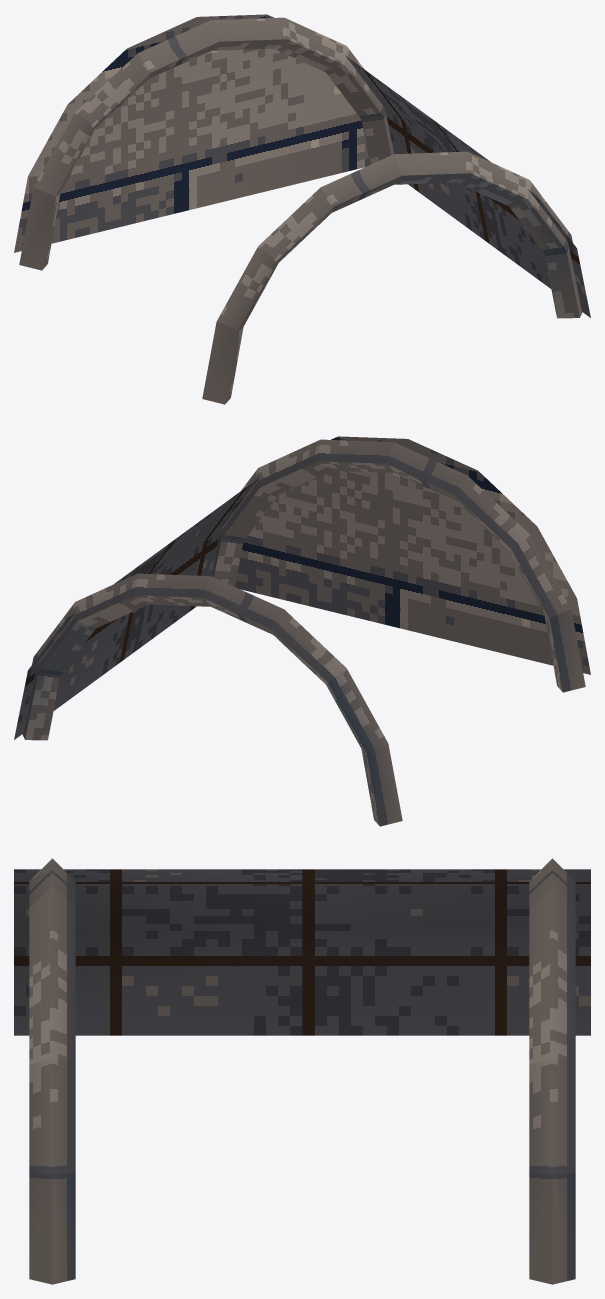
Rendered from dgn.ceiling__vault.glb.
The picture shows the model from 3 angles, top to bottom: view 1: azimuth 30°, elevation 25°; view 2: azimuth 150°, elevation 25°; view 3: azimuth 270°, elevation 25°; orthographic projection. The views are drawn at different scales.
Parts seen in each view (by area): view 1: kit_shell_tympana, kit_ribs, kit_shell_vault; view 2: kit_shell_tympana, kit_ribs, kit_shell_vault; view 3: kit_shell_vault, kit_ribs.
Part boxes in pixels (<box>): kit_shell_tympana: <box>14,14,370,252</box>; kit_ribs: <box>19,17,582,404</box>; kit_shell_vault: <box>345,55,590,317</box>; kit_shell_tympana: <box>234,436,590,674</box>; kit_ribs: <box>22,439,585,826</box>; kit_shell_vault: <box>14,477,259,739</box>; kit_shell_vault: <box>14,869,590,1035</box>; kit_ribs: <box>29,858,575,1284</box>.
Bounding box in the file's own units: 3.15 × 1.6 × 3.
Materials: 3 (3 with a texture image).
